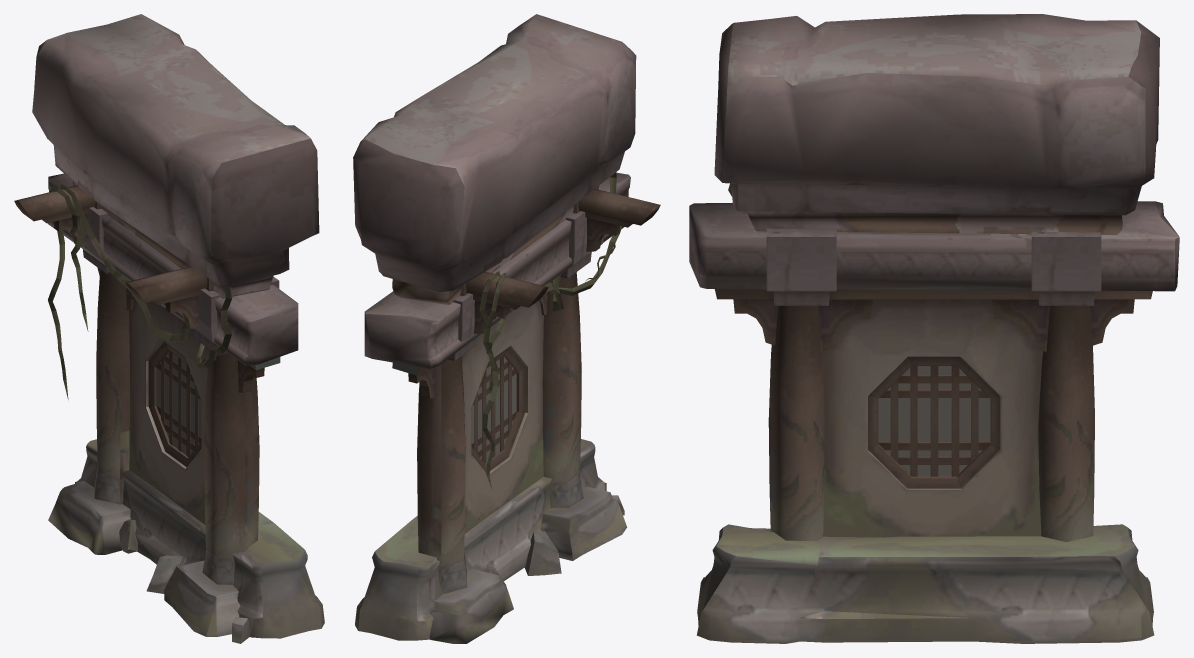
The model's file is s_building_autumn_4.fbx.
3 views of the same model, side by side, from view 1: azimuth 30°, elevation 25°; view 2: azimuth 150°, elevation 25°; view 3: azimuth 270°, elevation 25° (orthographic). The views are drawn at different scales.
Visible parts, largest first — view 1: s_building_autumn_4; view 2: s_building_autumn_4; view 3: s_building_autumn_4.
Part boxes in pixels (x1,y1,x2,y2): s_building_autumn_4: (14, 14, 324, 643); s_building_autumn_4: (353, 14, 660, 643); s_building_autumn_4: (689, 14, 1179, 643).
Bounding box in the file's own units: 0.5689 × 1.61 × 1.26.
